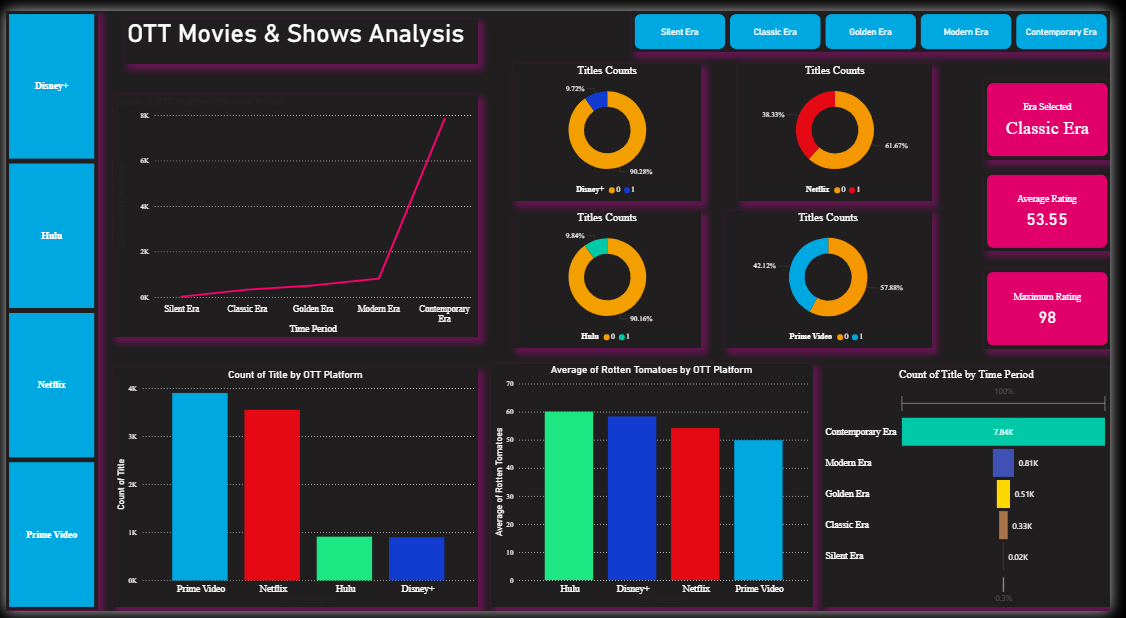

This screenshot's page, from the dashboard's own definition file:
{"tool":"powerbi","page":{"name":"OTT Movies & Shows Analysis","canvas":[1840,1000],"ordinal":0},"visuals":[{"type":"advancedSlicerVisual","fields":{"Values":["Time Period Lookup Table.Time Period"]},"box":[1042.9,0,797.1,68.6],"z":0},{"type":"cardVisual","fields":{"Data":["Min(Time Period Lookup Table.Time Period)"]},"box":[1628.8,113.8,211.2,132.5],"z":1000},{"type":"donutChart","title":"Titles Counts","fields":{"Y":["CountNonNull(MoviesOnStreamingPlatforms.Title)"],"Category":["MoviesOnStreamingPlatforms.Hulu"]},"box":[843.8,332.5,313.8,230],"z":2000},{"type":"funnel","fields":{"Y":["CountNonNull(MoviesOnStreamingPlatforms.Title)"],"Category":["MoviesOnStreamingPlatforms.Time Period"]},"box":[1358.8,593.8,481.2,398.8],"z":3000},{"type":"clusteredColumnChart","fields":{"Y":["CountNonNull(MoviesOnStreamingPlatforms.Title)"],"Category":["MoviesOnStreamingPlatforms.OTT Platform"]},"box":[176.2,593.8,610,398.8],"z":4000},{"type":"cardVisual","title":"Average Rating","fields":{"Data":["Avg(MoviesOnStreamingPlatforms.Rotten Tomatoes)"]},"box":[1630,266.2,210,132.5],"z":5000},{"type":"cardVisual","fields":{"Data":["Max(MoviesOnStreamingPlatforms.Rotten Tomatoes)"]},"box":[1628.8,430,211.2,132.5],"z":6000},{"type":"lineChart","fields":{"Y":["CountNonNull(MoviesOnStreamingPlatforms.OTT Platform)"],"Category":["Time Period Lookup Table.Time Period"]},"box":[176.2,140,610,403.8],"z":7000},{"type":"advancedSlicerVisual","fields":{"Values":["MoviesOnStreamingPlatforms.OTT Platform"]},"box":[0,0,152.5,998.8],"z":8000},{"type":"clusteredColumnChart","fields":{"Category":["MoviesOnStreamingPlatforms.OTT Platform"],"Y":["Avg(MoviesOnStreamingPlatforms.Rotten Tomatoes)"]},"box":[807.1,587.1,537.1,405.7],"z":9000},{"type":"donutChart","title":"Titles Counts","fields":{"Y":["CountNonNull(MoviesOnStreamingPlatforms.Title)"],"Category":["MoviesOnStreamingPlatforms.Prime Video"]},"box":[1197.5,332.5,345,230],"z":9001},{"type":"donutChart","title":"Titles Counts","fields":{"Y":["CountNonNull(MoviesOnStreamingPlatforms.Title)"],"Category":["MoviesOnStreamingPlatforms.Disney+"]},"box":[843.8,87.5,313.8,230],"z":9002},{"type":"donutChart","title":"Titles Counts","fields":{"Y":["CountNonNull(MoviesOnStreamingPlatforms.Title)"],"Category":["MoviesOnStreamingPlatforms.Netflix"]},"box":[1220,87.5,322.5,230],"z":9003},{"type":"textbox","title":"OTT Movies & Shows Analysis","box":[197.5,11.2,588.8,76.2],"z":9004}]}

Visuals, with their boxes in screenshot pixels (x1, y1, x2, y2), scaled from the page's 1840x1000 canvas onto the 1126x618 screenshot:
advancedSlicerVisual - Time Period Lookup Table.Time Period: pyautogui.locateOnScreen(638, 0, 1125, 42)
cardVisual - Min(Time Period Lookup Table.Time Period): pyautogui.locateOnScreen(997, 70, 1125, 152)
"Titles Counts" donutChart: pyautogui.locateOnScreen(516, 205, 708, 348)
funnel - CountNonNull(MoviesOnStreamingPlatforms.Title) x MoviesOnStreamingPlatforms.Time Period: pyautogui.locateOnScreen(832, 367, 1125, 613)
clusteredColumnChart - CountNonNull(MoviesOnStreamingPlatforms.Title) x MoviesOnStreamingPlatforms.OTT Platform: pyautogui.locateOnScreen(108, 367, 481, 613)
"Average Rating" cardVisual: pyautogui.locateOnScreen(997, 165, 1125, 246)
cardVisual - Max(MoviesOnStreamingPlatforms.Rotten Tomatoes): pyautogui.locateOnScreen(997, 266, 1125, 348)
lineChart - CountNonNull(MoviesOnStreamingPlatforms.OTT Platform) x Time Period Lookup Table.Time Period: pyautogui.locateOnScreen(108, 87, 481, 336)
advancedSlicerVisual - MoviesOnStreamingPlatforms.OTT Platform: pyautogui.locateOnScreen(0, 0, 93, 617)
clusteredColumnChart - MoviesOnStreamingPlatforms.OTT Platform x Avg(MoviesOnStreamingPlatforms.Rotten Tomatoes): pyautogui.locateOnScreen(494, 363, 823, 614)
"Titles Counts" donutChart: pyautogui.locateOnScreen(733, 205, 944, 348)
"Titles Counts" donutChart: pyautogui.locateOnScreen(516, 54, 708, 196)
"Titles Counts" donutChart: pyautogui.locateOnScreen(747, 54, 944, 196)
"OTT Movies & Shows Analysis" textbox: pyautogui.locateOnScreen(121, 7, 481, 54)
